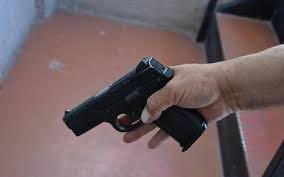Arma Real: (61, 55, 216, 153)
